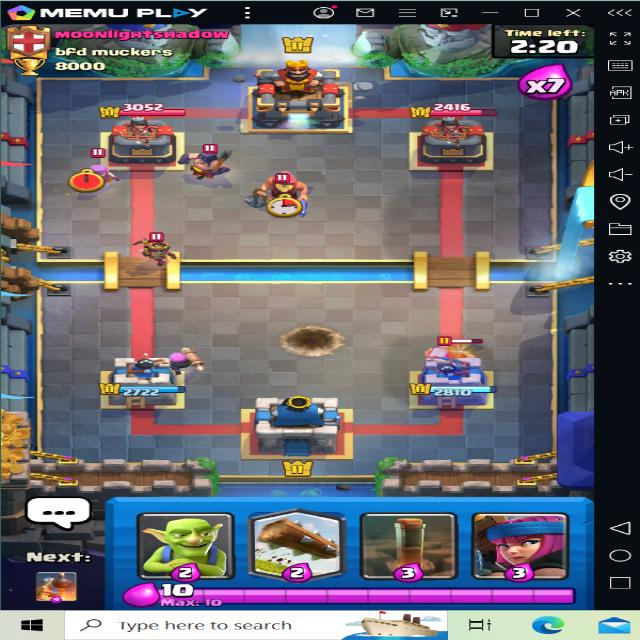executioner: (172, 132, 242, 186)
fisherman: (241, 170, 320, 210)
little-prince: (132, 226, 182, 266)
lumberjack: (425, 330, 485, 370)
mother-witch: (60, 142, 127, 196)
